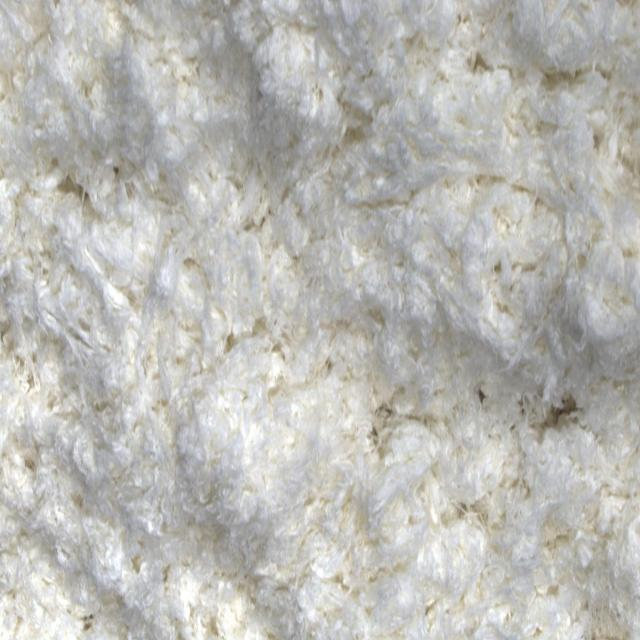dust: (539, 396, 604, 449)
